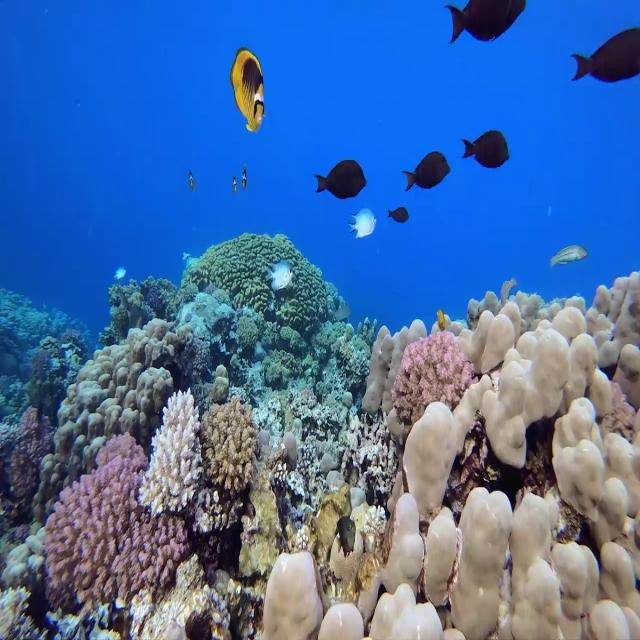fish: (450, 0, 528, 55), (573, 29, 640, 82), (230, 47, 266, 127), (314, 158, 367, 199), (402, 150, 452, 193), (463, 126, 510, 170), (351, 205, 378, 239), (550, 244, 588, 267), (265, 259, 293, 288), (387, 207, 410, 222)
